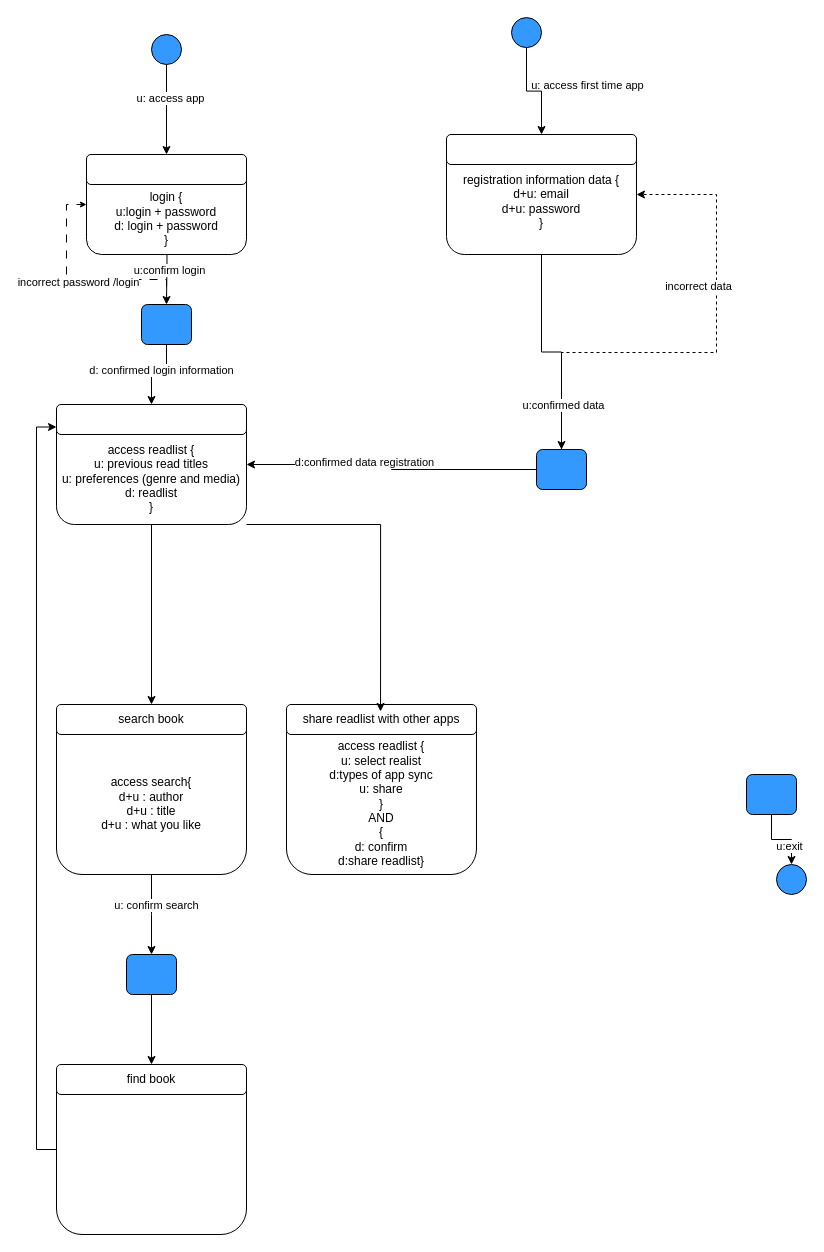
Image size: 824x1252. Some labels were removed from this diagram. Here are the shapes that lost their labels. From the top down, the box of each, then its label:
(86, 154, 246, 184): Access the App on mobile
(446, 134, 636, 164): first time register
(56, 404, 246, 434): Access homescreen
(56, 1064, 246, 1234): find a book result { d: new book recommendation u: follow/ remove readlist }
